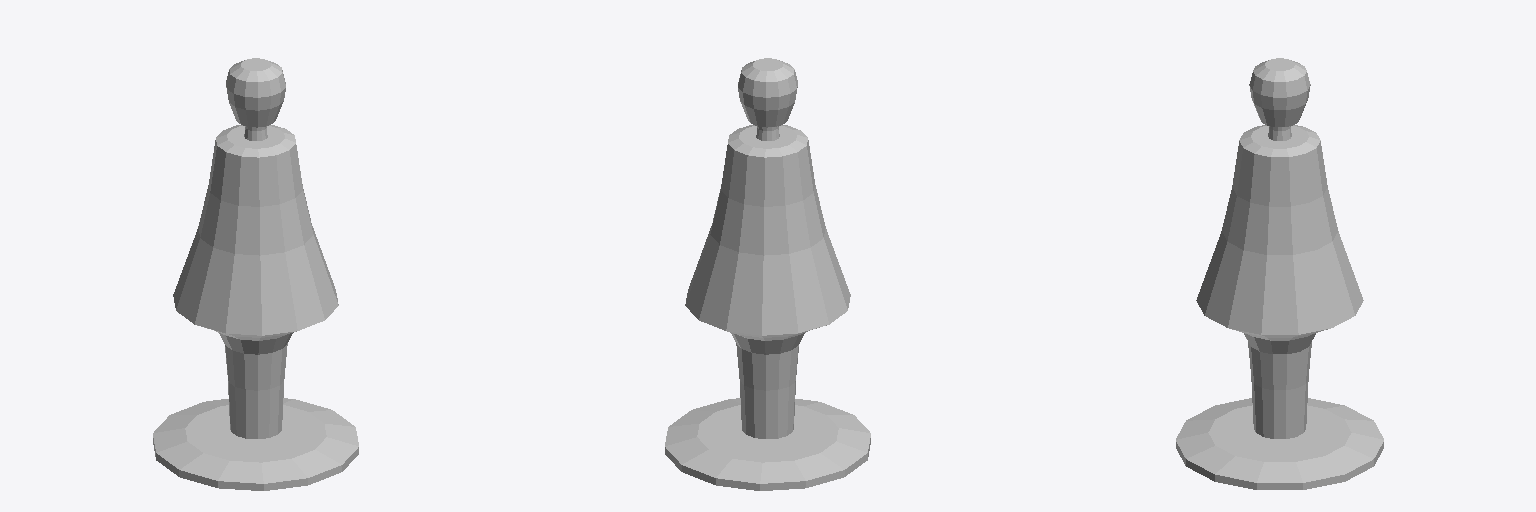
File: human-tall_003.obj
3 views of the same model, side by side, from view 1: azimuth 30°, elevation 25°; view 2: azimuth 150°, elevation 25°; view 3: azimuth 270°, elevation 25° (orthographic).
Parts seen in each view (by area): view 1: human-tall.003; view 2: human-tall.003; view 3: human-tall.003.
Boxes of the visible parts, x1,y1,x2,y2 form: human-tall.003: [153, 58, 358, 490]; human-tall.003: [665, 58, 870, 490]; human-tall.003: [1176, 58, 1383, 489].
Bounding box in the file's own units: 0.85 × 1.76 × 0.8719.